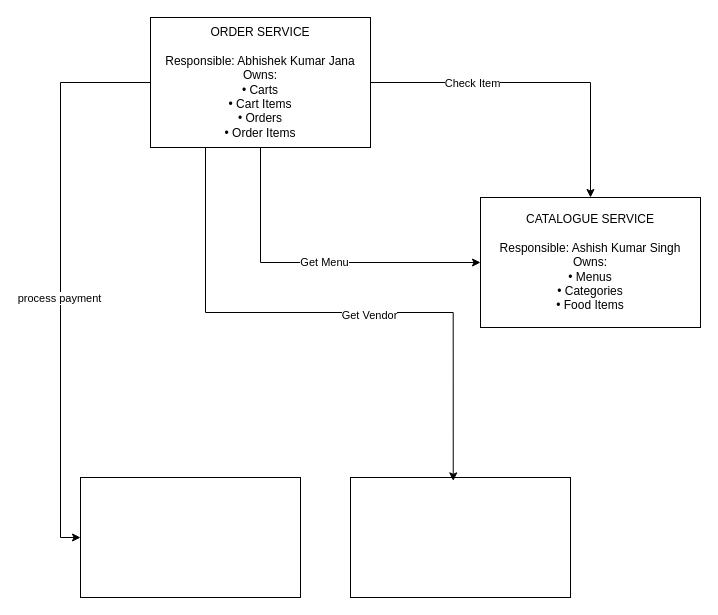
This 718x615 diagram has some shape labels left out. Each missing label, with the centre of its shape:
PAYMENT SERVICE Responsible: Tushar Bharadwaj Owns: • Payments: the point at 190,537
USER & ADMIN SERVICE Responsible: Bikash Pradhan Owns: • Users • Vendors: the point at 460,537
